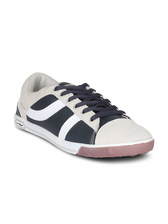shoes: (12, 70, 157, 159)
